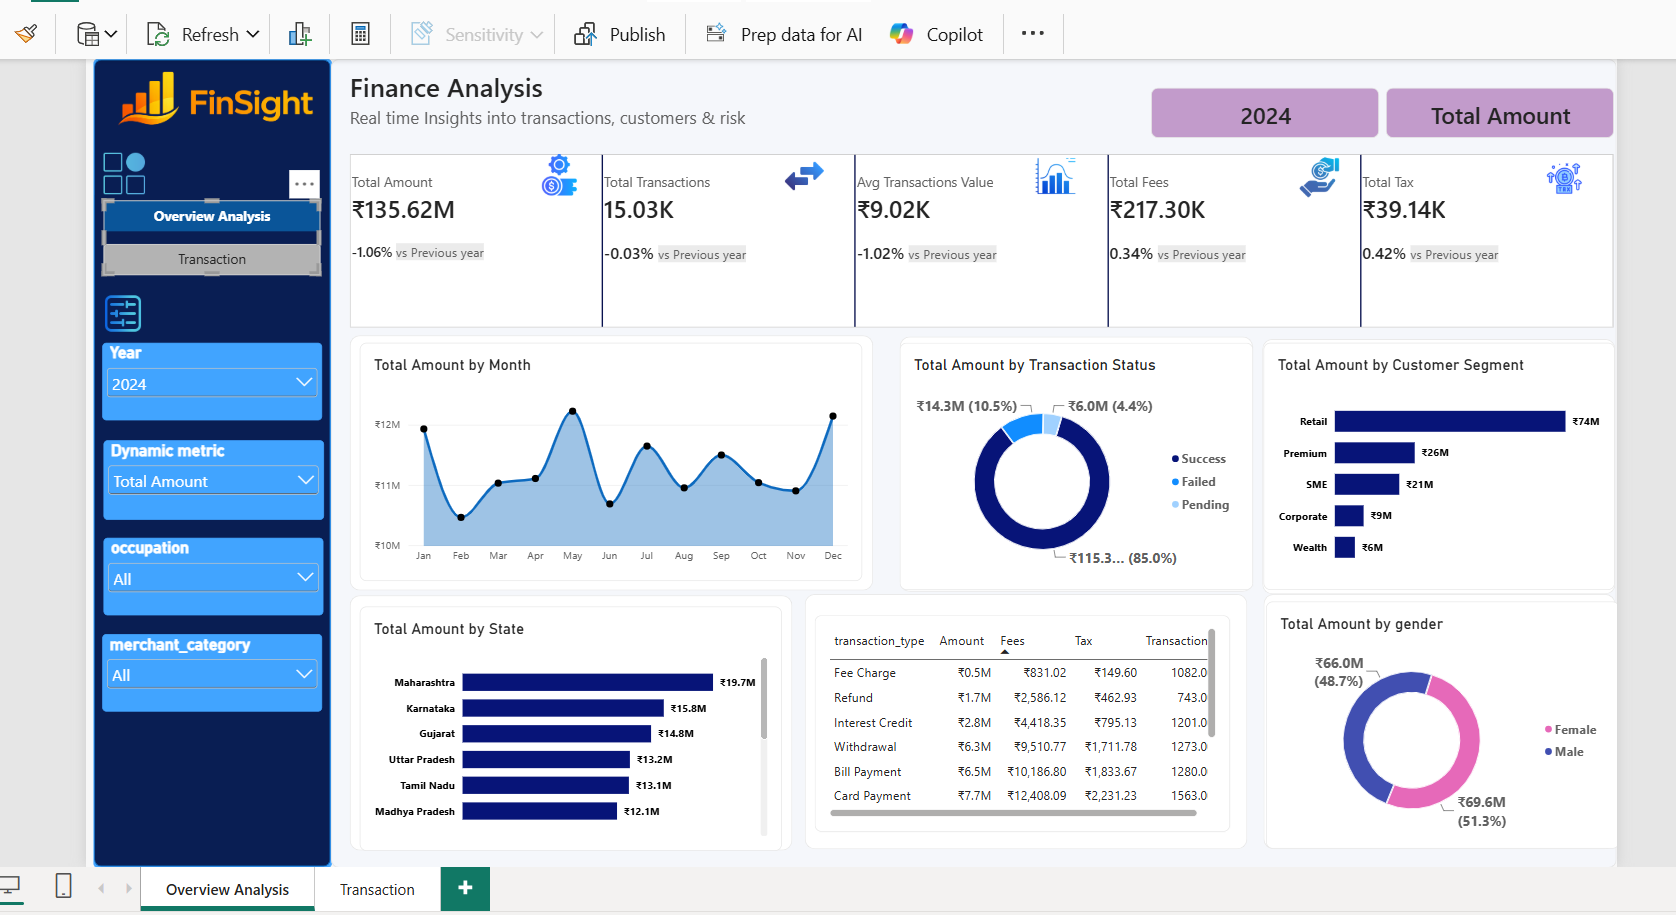

Layout of this report page (visuals, bound fields, positions):
{"tool":"powerbi","page":{"name":"Overview Analysis","canvas":[1800,950],"ordinal":0},"visuals":[{"type":"shape","box":[9.3,0,279.6,950],"z":0},{"type":"shape","box":[288.1,0,1511.1,950],"z":1000},{"type":"image","box":[0,0,310.2,93.2],"z":2000},{"type":"cardVisual","fields":{"Data":["finance_transactions.Dashboard title"]},"box":[310,0,510.8,93.3],"z":3000},{"type":"cardVisual","fields":{"Data":["finance_transactions.Total Amount","finance_transactions.Total Transactions","finance_transactions.Avg Transactions Value","finance_transactions.Total Fees","finance_transactions.Total Tax"]},"box":[310,111,1486.5,204.3],"z":4000},{"type":"slicer","fields":{"Values":["Calendar Table.Year"]},"box":[18.6,333.9,258.4,91.6],"z":5000},{"type":"image","box":[531.9,111,49,49],"z":6000},{"type":"image","box":[1424.9,114.5,49,49],"z":7000},{"type":"image","box":[1114.9,112.7,49,49],"z":8000},{"type":"image","box":[1711.9,116.2,49,49],"z":9000},{"type":"image","box":[819,112.7,49,49],"z":10000},{"type":"slicer","fields":{"Values":["Dynamic metric.Dynamic metric"]},"box":[20.3,447.5,258.9,93.3],"z":11000},{"type":"shape","box":[309.3,324.1,615,300],"z":12000},{"type":"cardVisual","fields":{"Data":["finance_transactions.Selected Year","finance_transactions.Selected Dynamic measure"]},"box":[1251.9,33.3,544.4,59.3],"z":13000},{"type":"areaChart","fields":{"Category":["Calendar Table.Month"],"Y":["finance_transactions.Total Amount"]},"box":[322.2,333.3,590.7,279.6],"z":14000},{"type":"shape","box":[955.6,325.9,415,300],"z":15000},{"type":"donutChart","fields":{"Category":["finance_transactions.transaction_status"],"Y":["finance_transactions.Total Amount"]},"box":[955.6,333.3,414.8,290.7],"z":16000},{"type":"shape","box":[1381.5,329.6,415,300],"z":17000},{"type":"barChart","fields":{"Category":["customers.customer_segment"],"Y":["finance_transactions.Total Amount"]},"box":[1383.3,333.3,413,290.7],"z":18000},{"type":"shape","box":[309.3,629.6,520,300],"z":19000},{"type":"barChart","fields":{"Category":["customers.state"],"Y":["finance_transactions.Total Amount"]},"box":[322.2,642.6,496.3,287],"z":20000},{"type":"shape","box":[844.1,628.8,520,300],"z":21000},{"type":"tableEx","fields":{"Values":["finance_transactions.transaction_type","finance_transactions.Total Amount","finance_transactions.Total Fees","finance_transactions.Total Tax","finance_transactions.Total Transactions"]},"box":[855.9,654.2,488.1,254.2],"z":22000},{"type":"shape","box":[1383.1,628.8,413.6,300],"z":23000},{"type":"donutChart","fields":{"Category":["customers.gender"],"Y":["finance_transactions.Total Amount"]},"box":[1386.4,637.3,414.8,290.7],"z":24000},{"type":"slicer","fields":{"Values":["customers.occupation"]},"box":[20.3,562.7,258.4,91.6],"z":25000},{"type":"slicer","fields":{"Values":["finance_transactions.merchant_category"]},"box":[18.6,676.3,258.4,91.6],"z":26000},{"type":"pageNavigator","box":[20.3,166.1,255.9,88.1],"z":27000},{"type":"image","box":[20.3,110.2,49,49],"z":28000},{"type":"image","box":[18.6,274.6,49,49],"z":29000}]}

Visuals, with their boxes on the page's 1800x950 design canvas (x1, y1, x2, y2). These are canvas units, not pixel positions in the 1676x915 screenshot, which may show the page scaled, cropped or inside an application window:
shape: bbox=[9, 0, 289, 950]
shape: bbox=[288, 0, 1799, 950]
image: bbox=[0, 0, 310, 93]
cardVisual - finance_transactions.Dashboard title: bbox=[310, 0, 821, 93]
cardVisual - finance_transactions.Total Amount x finance_transactions.Total Transactions: bbox=[310, 111, 1796, 315]
slicer - Calendar Table.Year: bbox=[19, 334, 277, 426]
image: bbox=[532, 111, 581, 160]
image: bbox=[1425, 114, 1474, 164]
image: bbox=[1115, 113, 1164, 162]
image: bbox=[1712, 116, 1761, 165]
image: bbox=[819, 113, 868, 162]
slicer - Dynamic metric.Dynamic metric: bbox=[20, 448, 279, 541]
shape: bbox=[309, 324, 924, 624]
cardVisual - finance_transactions.Selected Year x finance_transactions.Selected Dynamic measure: bbox=[1252, 33, 1796, 93]
areaChart - Calendar Table.Month x finance_transactions.Total Amount: bbox=[322, 333, 913, 613]
shape: bbox=[956, 326, 1371, 626]
donutChart - finance_transactions.transaction_status x finance_transactions.Total Amount: bbox=[956, 333, 1370, 624]
shape: bbox=[1382, 330, 1796, 630]
barChart - customers.customer_segment x finance_transactions.Total Amount: bbox=[1383, 333, 1796, 624]
shape: bbox=[309, 630, 829, 930]
barChart - customers.state x finance_transactions.Total Amount: bbox=[322, 643, 818, 930]
shape: bbox=[844, 629, 1364, 929]
tableEx - finance_transactions.transaction_type x finance_transactions.Total Amount: bbox=[856, 654, 1344, 908]
shape: bbox=[1383, 629, 1797, 929]
donutChart - customers.gender x finance_transactions.Total Amount: bbox=[1386, 637, 1801, 928]
slicer - customers.occupation: bbox=[20, 563, 279, 654]
slicer - finance_transactions.merchant_category: bbox=[19, 676, 277, 768]
pageNavigator: bbox=[20, 166, 276, 254]
image: bbox=[20, 110, 69, 159]
image: bbox=[19, 275, 68, 324]
